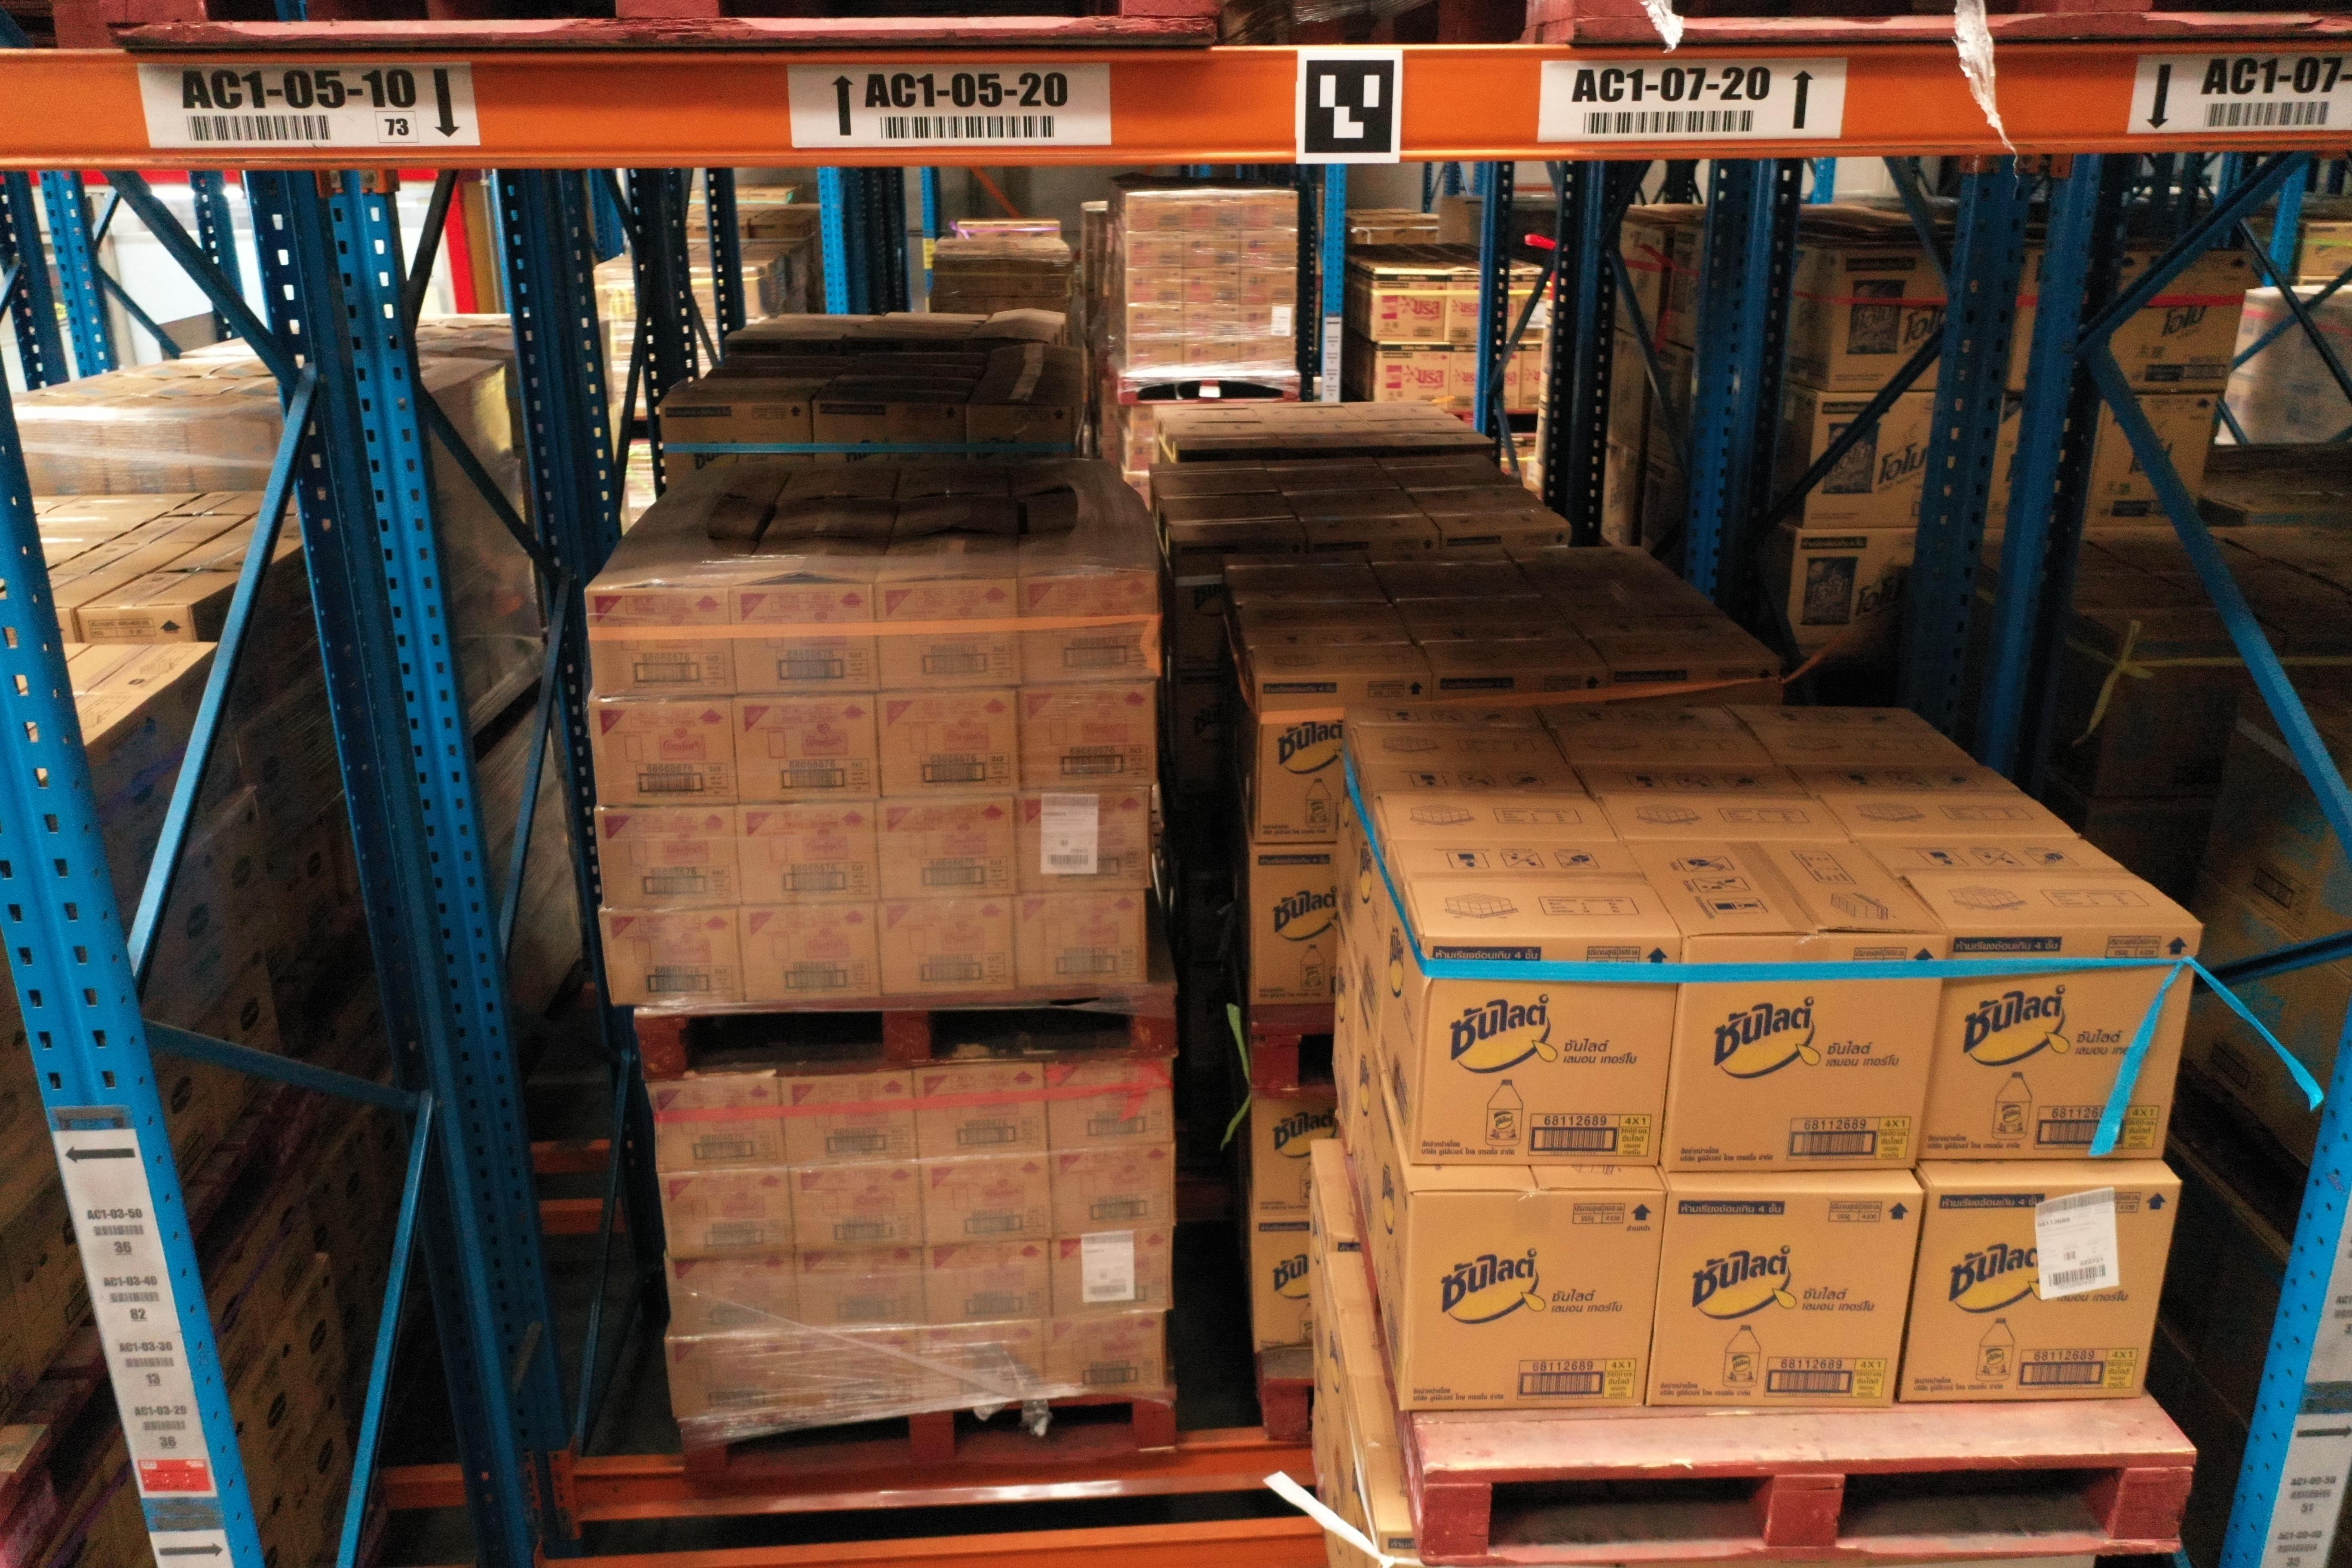-: (1662, 931, 1953, 1174), (1916, 929, 2207, 1162), (1895, 1181, 2184, 1402), (1412, 938, 1685, 1169), (1395, 1190, 1666, 1417), (1645, 1192, 1927, 1409)
box: (583, 583, 738, 700), (731, 581, 880, 696), (875, 579, 1025, 693), (731, 695, 882, 805), (588, 698, 737, 808), (1017, 572, 1160, 684), (877, 688, 1022, 798), (735, 801, 882, 908), (1017, 679, 1157, 789), (595, 807, 744, 910), (877, 796, 1018, 901), (1017, 787, 1153, 894), (602, 908, 745, 1008), (779, 1071, 919, 1169), (740, 905, 880, 1001), (878, 898, 1017, 994), (651, 1076, 787, 1172), (913, 1064, 1050, 1160), (1015, 891, 1148, 989), (658, 1167, 793, 1258), (919, 1155, 1052, 1246), (667, 1332, 805, 1419), (1046, 1060, 1176, 1153), (787, 1164, 920, 1253), (922, 1239, 1052, 1325), (1050, 1148, 1174, 1237), (663, 1256, 800, 1337), (793, 1248, 926, 1330), (800, 1330, 924, 1416), (919, 1321, 1048, 1403), (1046, 1234, 1171, 1316), (1046, 1316, 1167, 1396)
